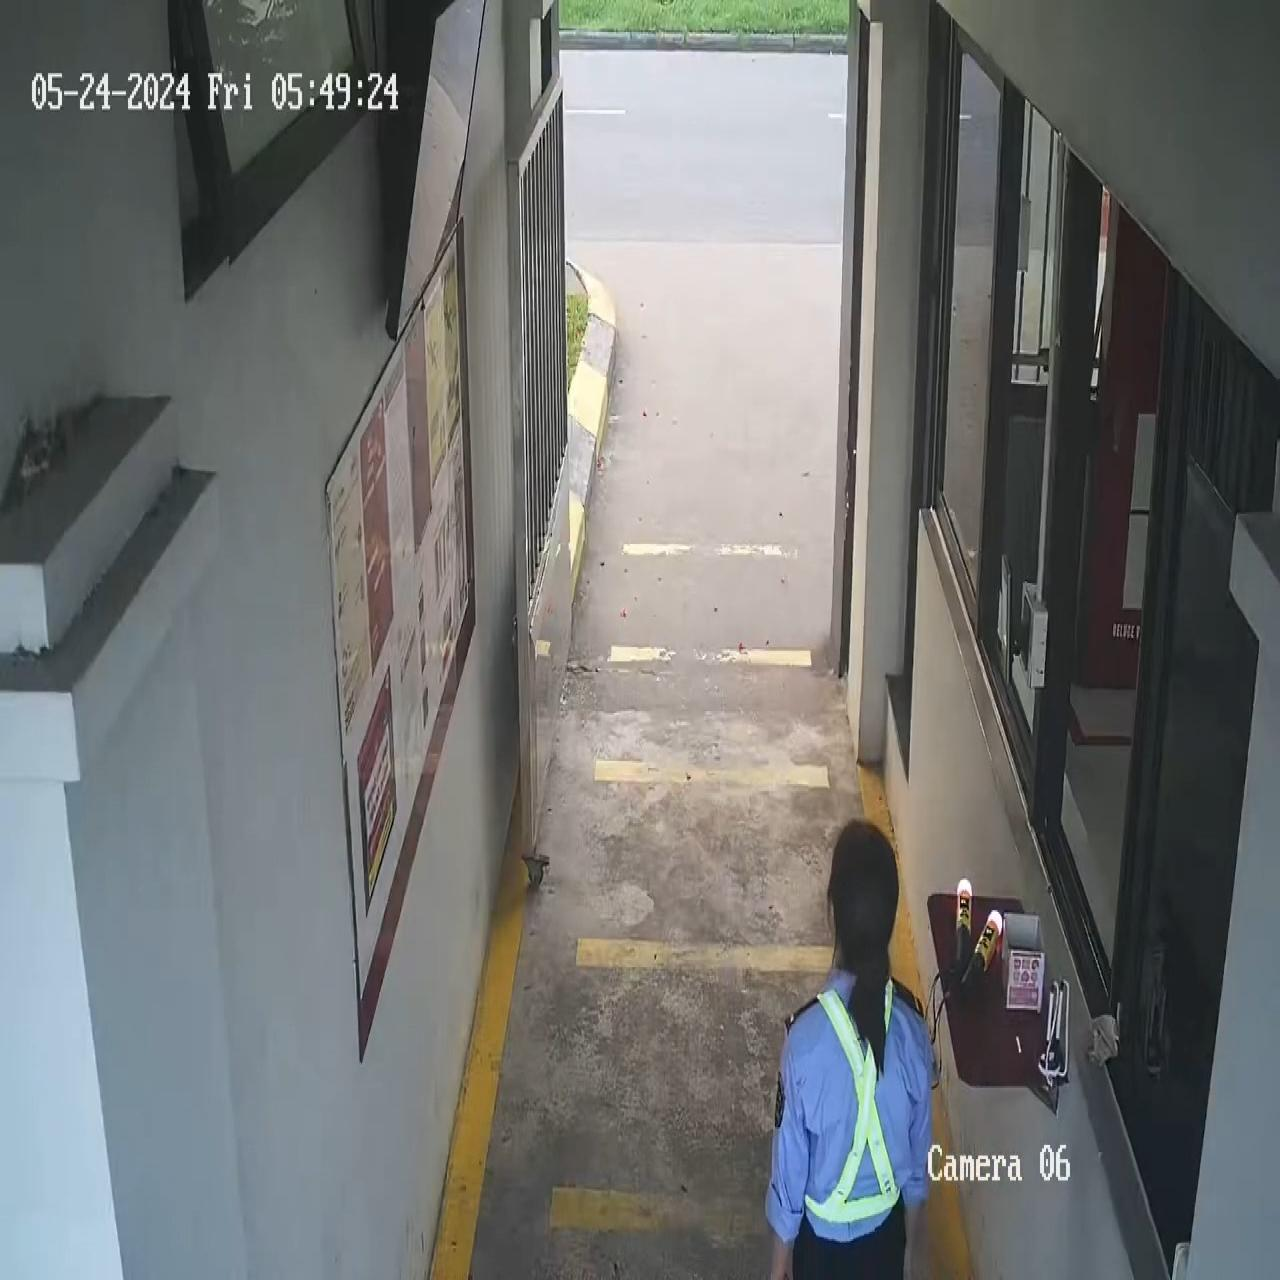breathalyzer: (966, 905, 1008, 1001), (951, 869, 974, 978)
guard: (764, 816, 937, 1276)
